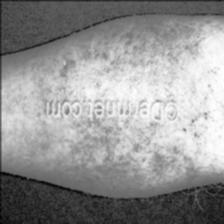Non-Cancerous Skin Condition: (52, 126, 224, 182), (25, 52, 218, 94)
